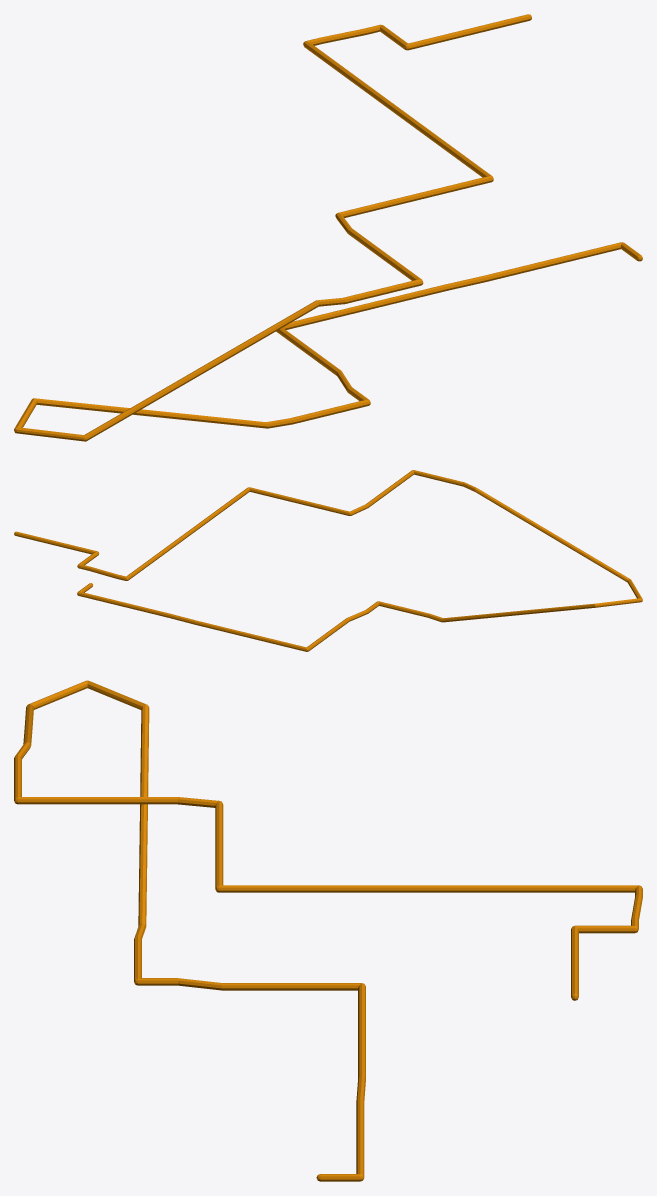
3 views of the same model, one above another, from view 1: azimuth 30°, elevation 25°; view 2: azimuth 150°, elevation 25°; view 3: azimuth 270°, elevation 25° (orthographic). The views are drawn at different scales.
Bounding box in the file's own units: 2409 × 520 × 1574.
